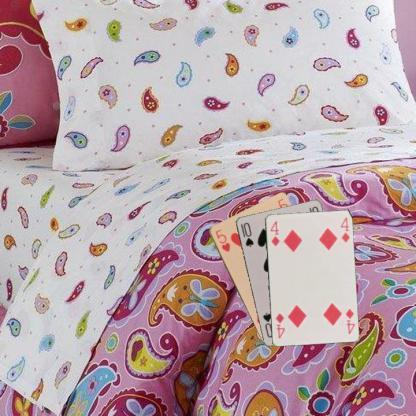10s: (240, 219, 255, 248)
4d: (267, 218, 281, 248), (342, 306, 356, 336)
5h: (213, 226, 231, 254)
